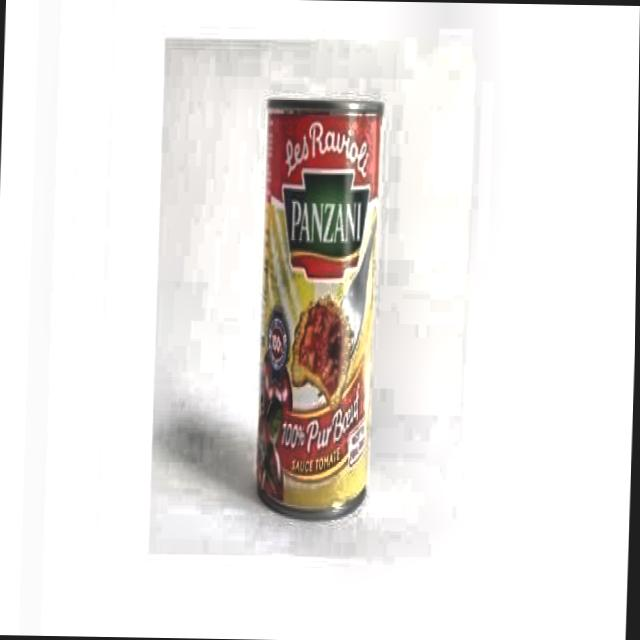Cans: (247, 76, 388, 528)
